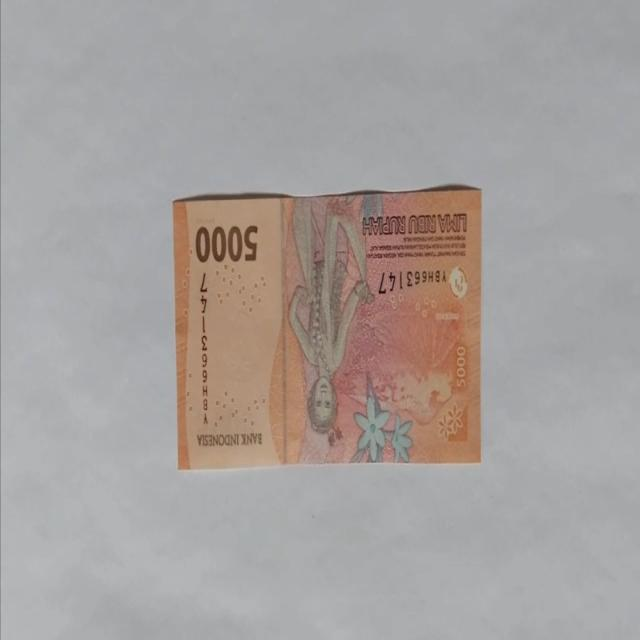lima ribu rupiah: (172, 183, 482, 470)
